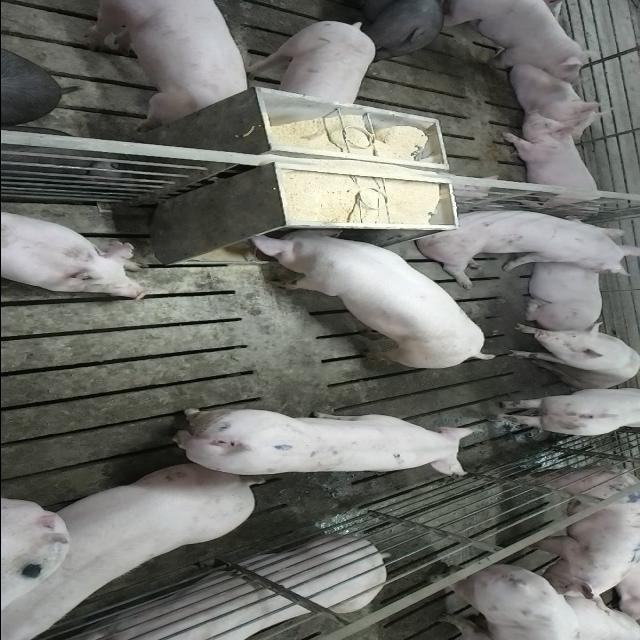Feeding: (243, 220, 493, 366)
Sitting: (413, 202, 636, 284), (502, 324, 640, 389)
Standing: (162, 407, 476, 478), (76, 1, 253, 126), (510, 462, 640, 598), (434, 3, 598, 80), (242, 18, 376, 106), (424, 566, 578, 640), (486, 384, 638, 438), (330, 0, 449, 59)
Sternal_lying: (68, 539, 384, 640), (0, 207, 150, 300), (504, 64, 614, 140), (518, 257, 606, 329)
